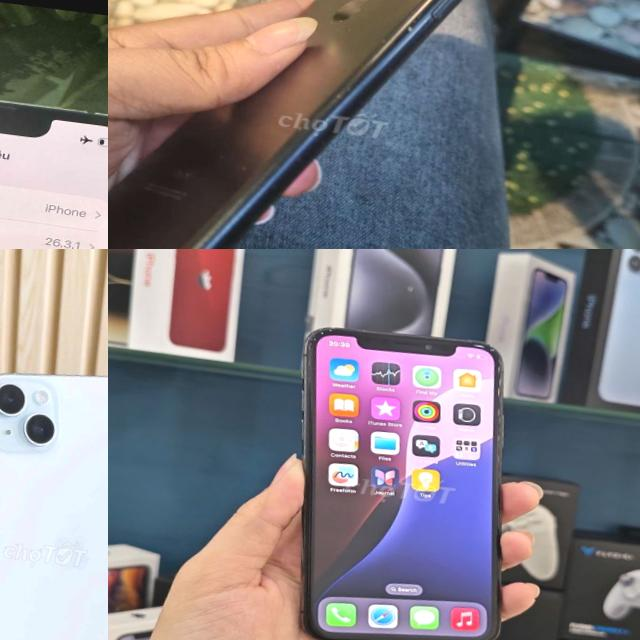gen_14: (0, 68, 108, 249)
gen_15: (0, 347, 108, 640)
gen_7_8: (108, 0, 528, 249)
gen_x_xs: (244, 301, 546, 640)
